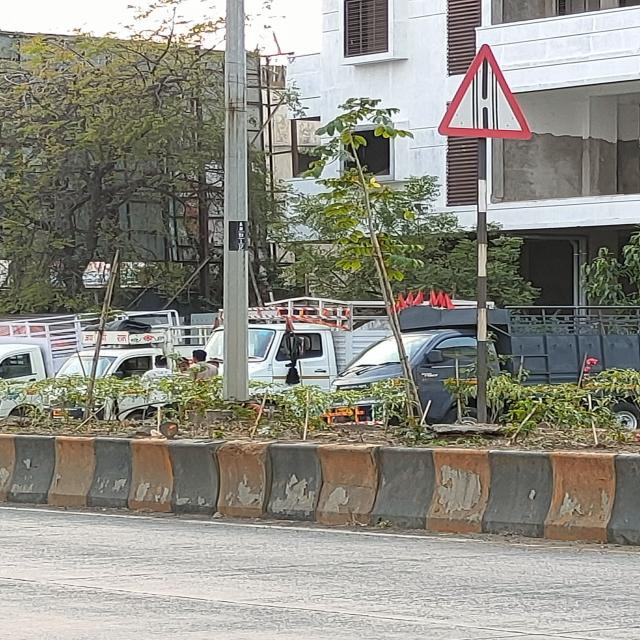ferry: (438, 43, 537, 138)
